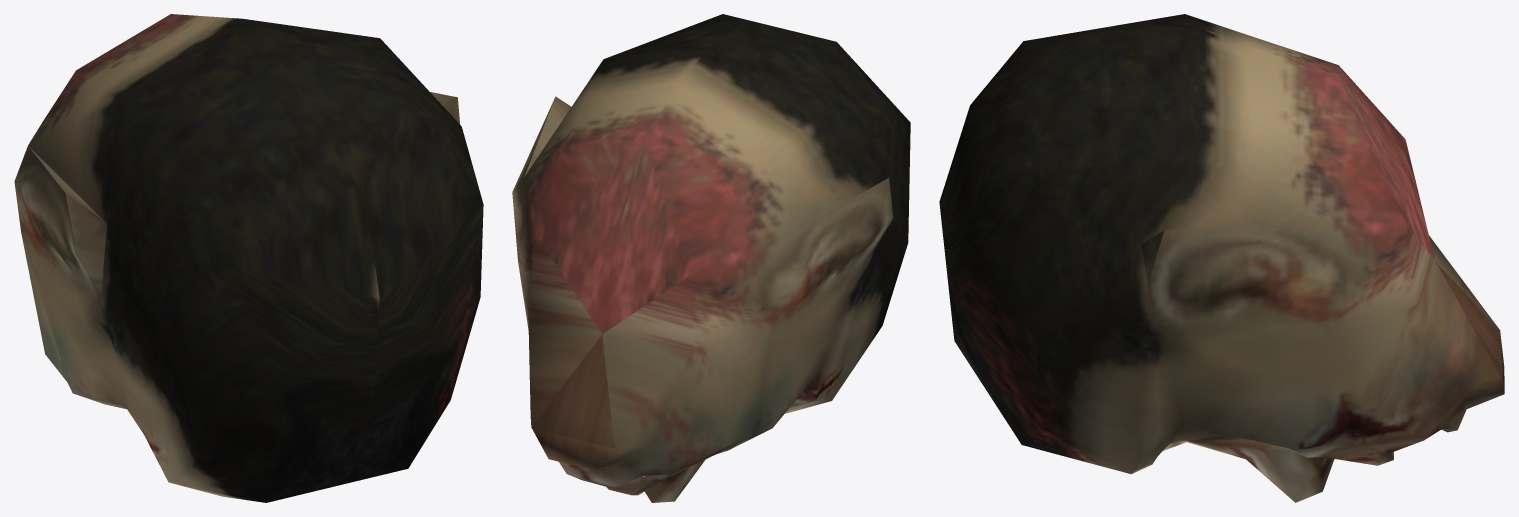
3 renders of one model, left to right at view 1: azimuth 30°, elevation 25°; view 2: azimuth 150°, elevation 25°; view 3: azimuth 270°, elevation 25°, orthographic. The views are drawn at different scales.
Visible parts, largest first — view 1: ZM_BALD; view 2: ZM_BALD; view 3: ZM_BALD.
Part boxes in pixels (<box>): ZM_BALD: <box>14,14,483,502</box>; ZM_BALD: <box>512,14,910,502</box>; ZM_BALD: <box>939,14,1504,502</box>.
Bounding box in the file's own units: 19.71 × 23.46 × 25.78.
